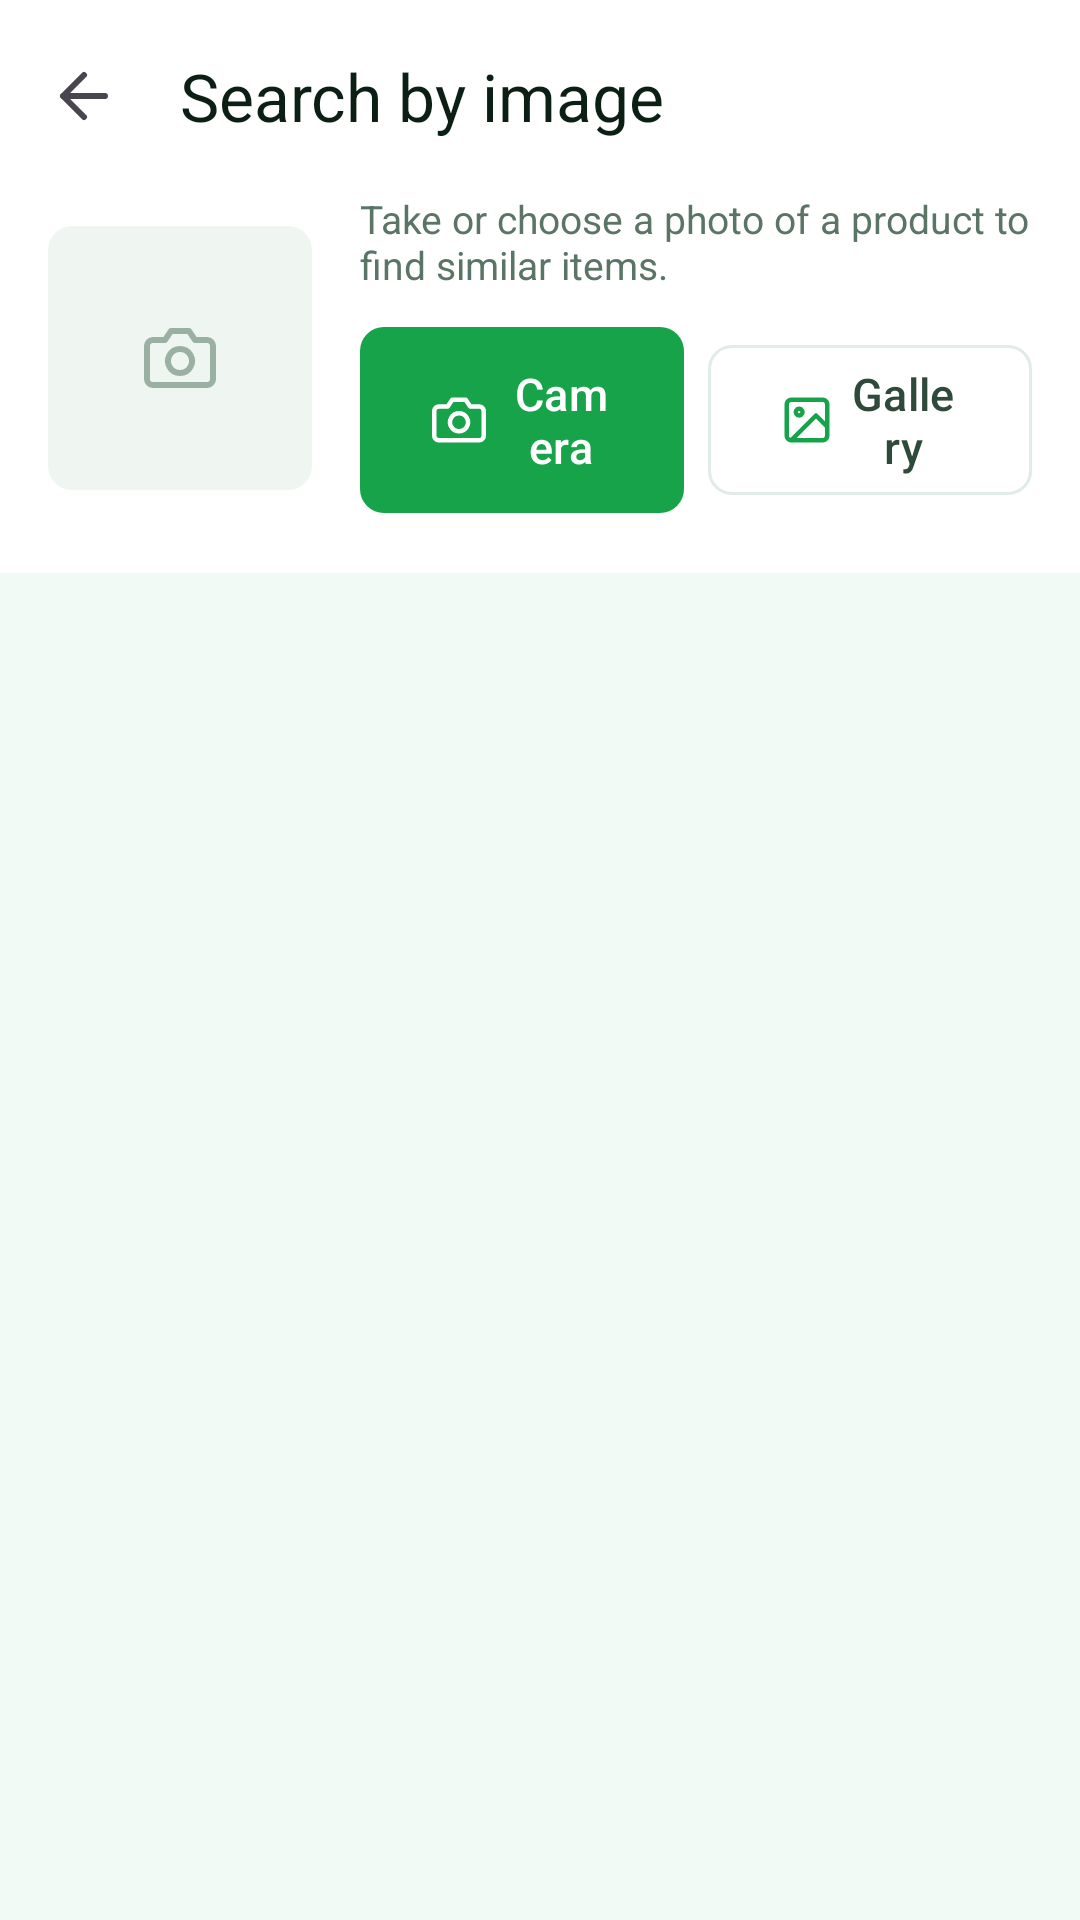

Locate icon controls on the screen. Image size 1080w x 1920h, boxes as bbox=(x1, y1, x2, y2).
Your photo: bbox=(48, 226, 312, 490)
